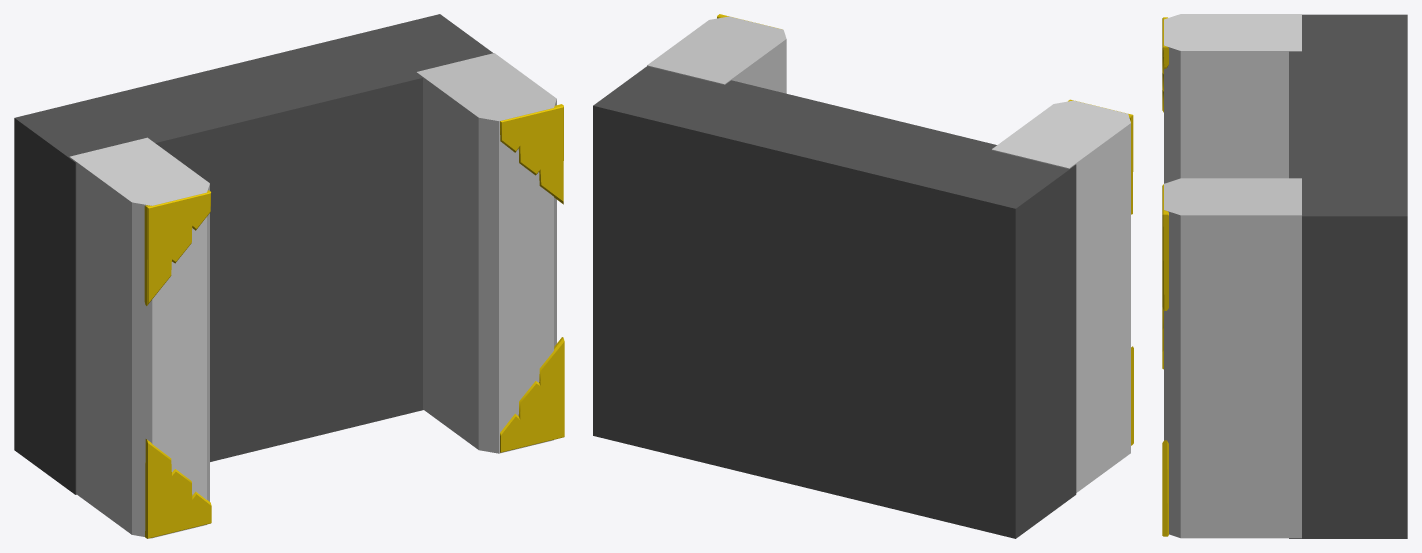
The model's file is Pillar003.fbx.
The picture shows the model from 3 angles, left to right: view 1: azimuth 30°, elevation 25°; view 2: azimuth 150°, elevation 25°; view 3: azimuth 270°, elevation 25°; orthographic projection. The views are drawn at different scales.
Parts seen in each view (by area): view 1: pCube6, leftwall1, leftwall, pCube1, pCube5; view 2: pCube6, leftwall, leftwall1; view 3: pCube6, leftwall1, leftwall, pCube5, pCube1.
Part boxes in pixels (x1=…): pCube6: x1=14, y1=14, x2=493, y2=494; leftwall1: x1=416, y1=53, x2=556, y2=453; leftwall: x1=69, y1=137, x2=209, y2=538; pCube1: x1=145, y1=337, x2=564, y2=538; pCube5: x1=144, y1=104, x2=563, y2=305; pCube6: x1=593, y1=66, x2=1076, y2=538; leftwall: x1=991, y1=100, x2=1130, y2=492; leftwall1: x1=647, y1=16, x2=786, y2=93; pCube6: x1=1289, y1=14, x2=1407, y2=538; leftwall1: x1=1164, y1=178, x2=1301, y2=538; leftwall: x1=1164, y1=14, x2=1301, y2=183; pCube5: x1=1162, y1=17, x2=1168, y2=310; pCube1: x1=1162, y1=307, x2=1168, y2=536.
Bounding box in the file's own units: 30.82 × 23.05 × 15.83.
